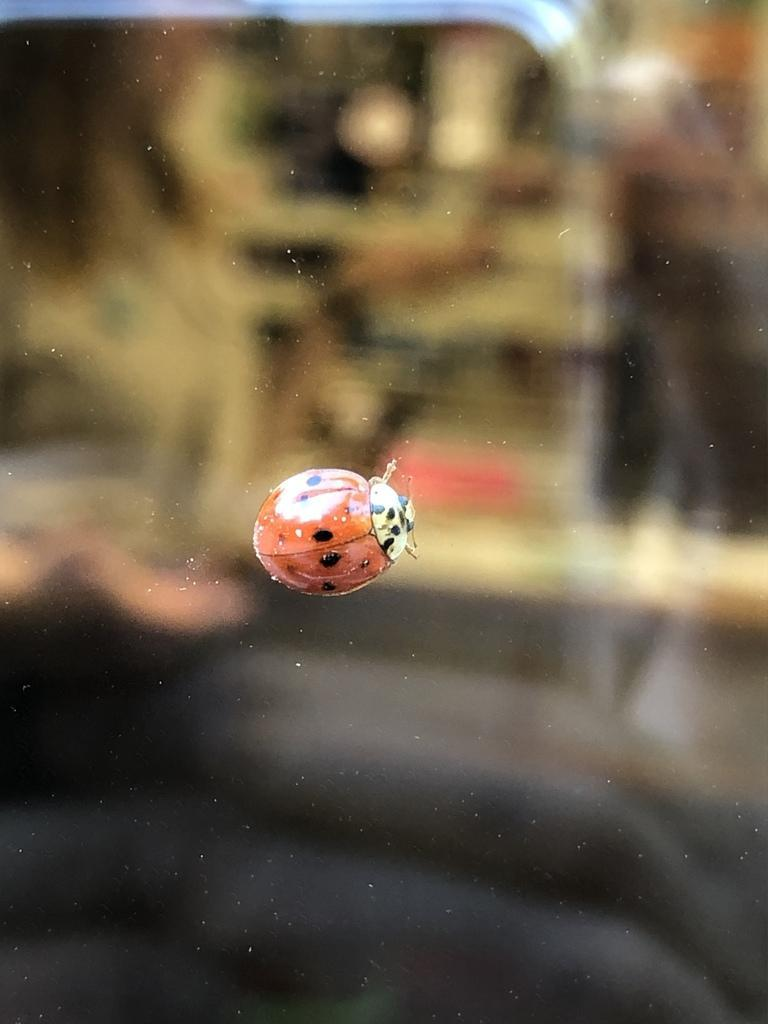ladybug: (251, 454, 429, 601)
